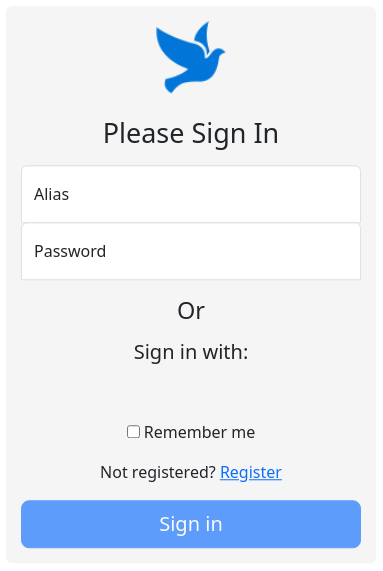
Scenario: Login Component › The sign-in button is disabled if either the alias or password field is cleared.
Type "@bob" into the field labelled "Alias". click: (191, 195)
box: x1=21 y1=166 x2=361 y2=224
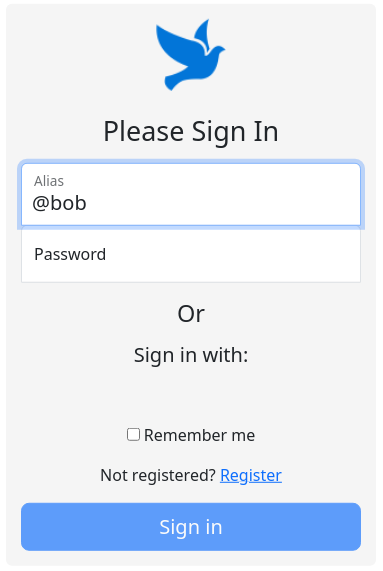
Type "pw" into the password field labelled "Password". click: (191, 254)
box: x1=21 y1=225 x2=361 y2=283
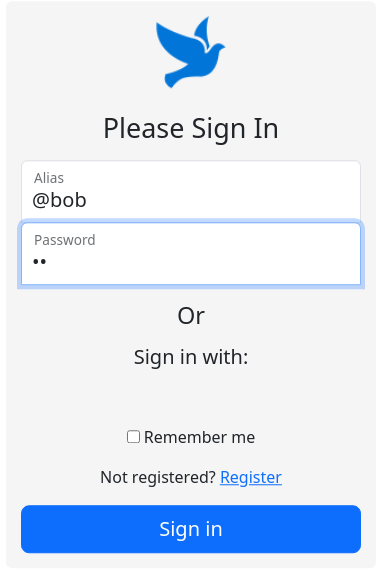
Now the button "Sign in" is enabled, box x1=21 y1=506 x2=361 y2=554
Clear the field labelled "Alias". click: (191, 192)
box: x1=21 y1=161 x2=361 y2=224
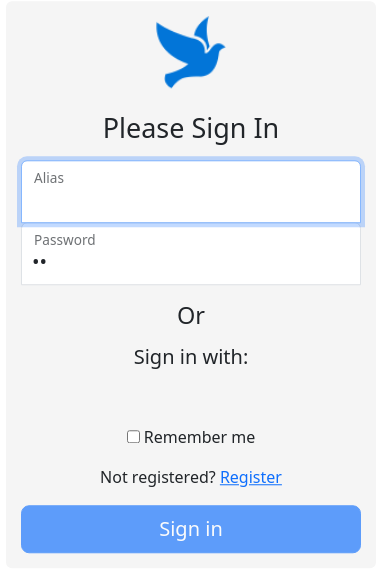
Now the button "Sign in" is disabled, box x1=21 y1=506 x2=361 y2=554
Type "@bob" into the field labelled "Alias". click: (191, 192)
box: x1=21 y1=161 x2=361 y2=224
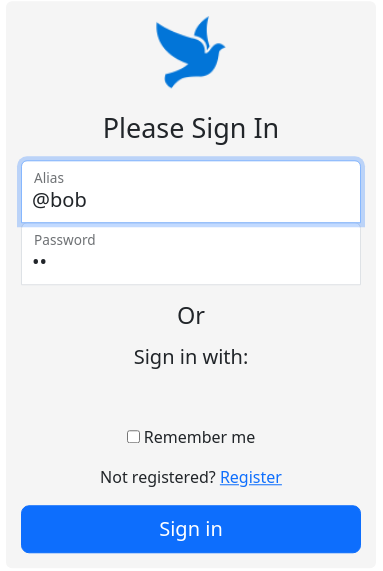
Now the button "Sign in" is enabled, box x1=21 y1=506 x2=361 y2=554
Clear the password field labelled "Password". click: (191, 254)
box: x1=21 y1=223 x2=361 y2=286
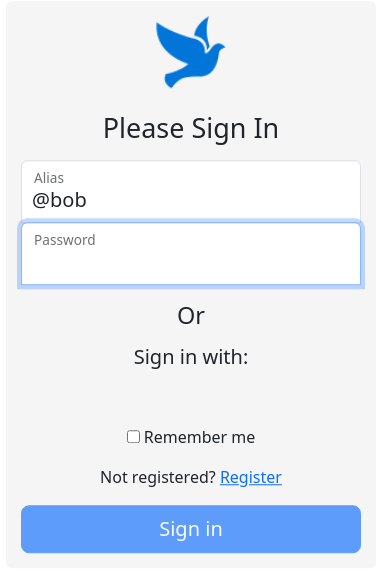
Now the button "Sign in" is disabled, box x1=21 y1=506 x2=361 y2=554
